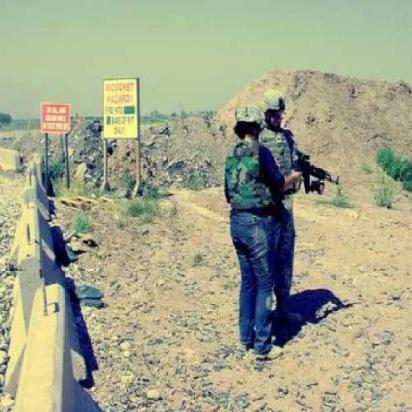Gun: (287, 148, 350, 202)
